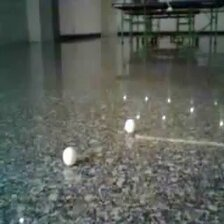w: (62, 147, 76, 164), (124, 120, 135, 133)
